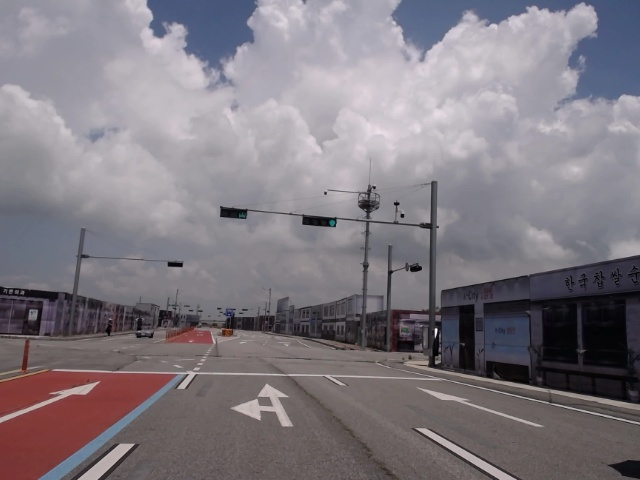straight_green_4: (302, 215, 337, 226)
